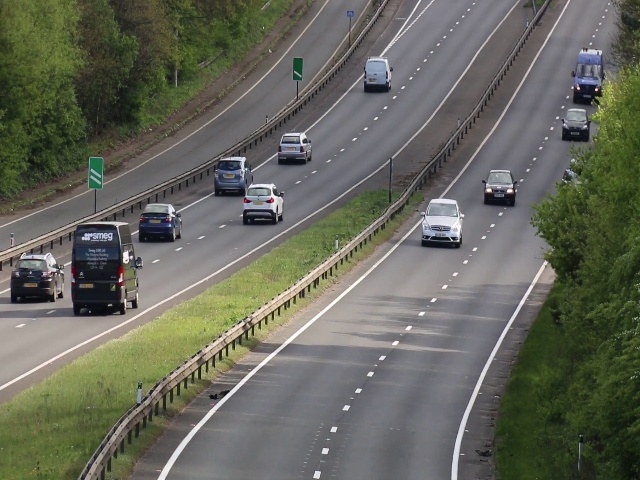car: (71, 221, 139, 316), (12, 254, 64, 304), (241, 184, 286, 224), (422, 200, 461, 246), (138, 201, 182, 241), (572, 58, 602, 102), (214, 156, 251, 190), (483, 170, 516, 203), (277, 132, 311, 164), (363, 56, 392, 92), (560, 108, 589, 140)
